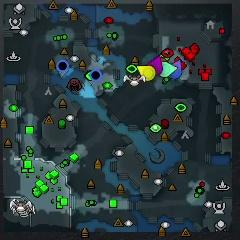p1: (170, 60, 182, 79)
p1Clone: (89, 69, 102, 81), (57, 60, 69, 72)
p2: (160, 62, 177, 77)
p3: (147, 55, 163, 76)
p4: (136, 65, 156, 82)
